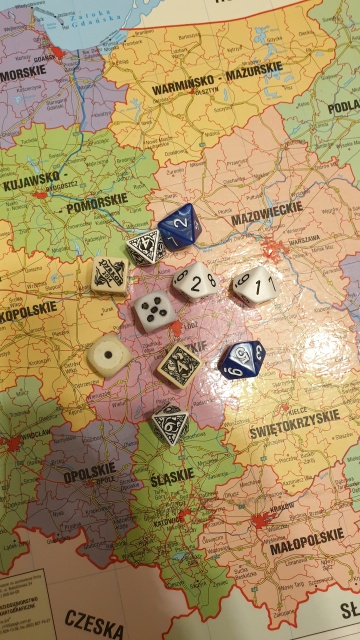d10-1: (227, 262, 283, 310)
d10-2: (171, 260, 221, 302), (161, 202, 200, 246)
d10-5: (214, 336, 270, 385)
d6-1: (87, 335, 130, 376)
d6-5: (135, 290, 175, 331)
d6p-1: (90, 255, 131, 296)
d6p-4: (151, 340, 203, 390)
d8p-4: (125, 229, 169, 266)
d8p-6: (151, 401, 198, 452)
